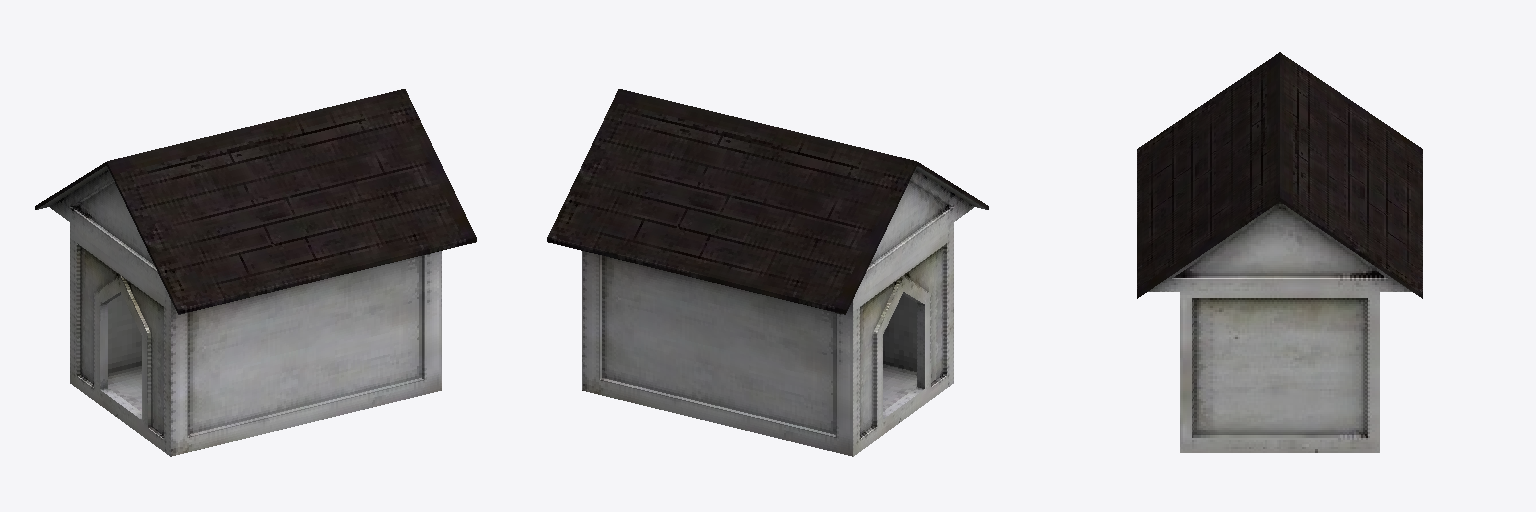
The picture shows the model from 3 angles: view 1: azimuth 30°, elevation 25°; view 2: azimuth 150°, elevation 25°; view 3: azimuth 270°, elevation 25°; orthographic projection.
Visible parts, largest first — view 1: Object_MOS_IOS_LOCATION_Kent_Farm_Structure_Doghouse_Base_D.jpg; view 2: Object_MOS_IOS_LOCATION_Kent_Farm_Structure_Doghouse_Base_D.jpg; view 3: Object_MOS_IOS_LOCATION_Kent_Farm_Structure_Doghouse_Base_D.jpg.
Part boxes in pixels (x1,y1,x2,y2): Object_MOS_IOS_LOCATION_Kent_Farm_Structure_Doghouse_Base_D.jpg: (35, 89, 476, 456); Object_MOS_IOS_LOCATION_Kent_Farm_Structure_Doghouse_Base_D.jpg: (547, 89, 988, 456); Object_MOS_IOS_LOCATION_Kent_Farm_Structure_Doghouse_Base_D.jpg: (1137, 52, 1422, 452).
Bounding box in the file's own units: 2.5 × 2.1 × 2.08.
Materials: 2 (1 with a texture image).